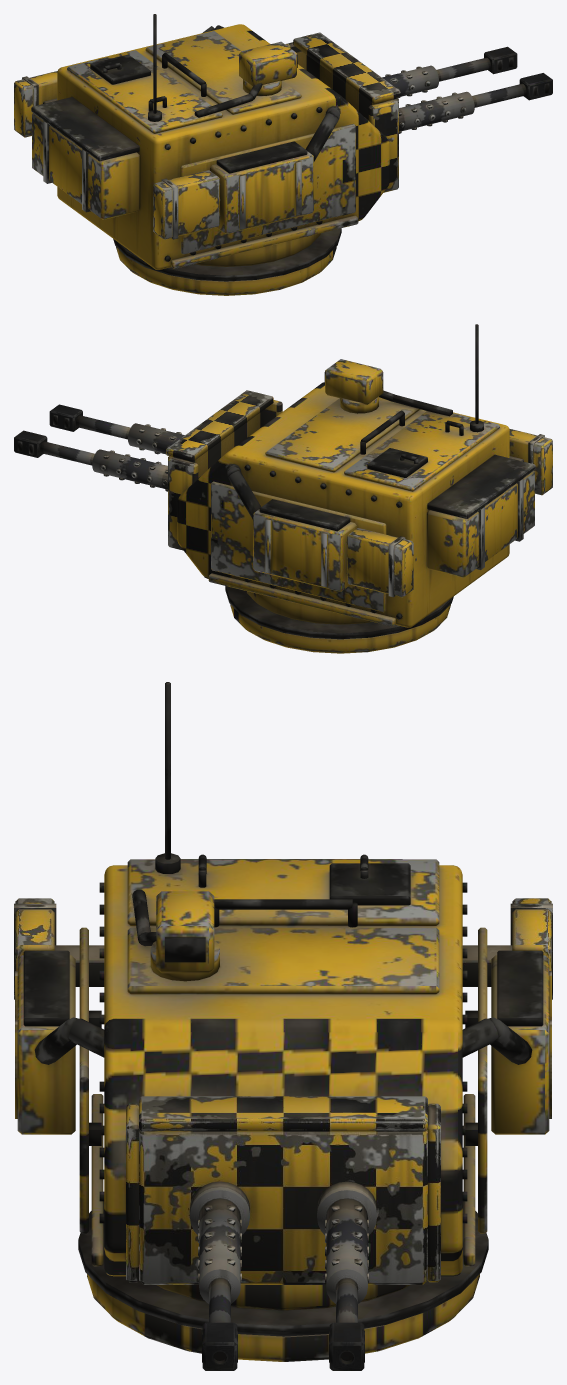
File: turret_grach_t3_chequer.glb
The picture shows the model from 3 angles, top to bottom: view 1: azimuth 30°, elevation 25°; view 2: azimuth 150°, elevation 25°; view 3: azimuth 270°, elevation 25°; orthographic projection. The views are drawn at different scales.
Parts seen in each view (by area): view 1: turret_light_t3, guns, pods; view 2: turret_light_t3, guns, pods; view 3: turret_light_t3, guns, pods.
Part boxes in pixels (x1=…): turret_light_t3: x1=31, y1=14, x2=389, y2=295; guns: x1=285, y1=32, x2=552, y2=192; pods: x1=14, y1=71, x2=220, y2=239; turret_light_t3: x1=177, y1=324, x2=535, y2=653; guns: x1=14, y1=390, x2=282, y2=550; pods: x1=346, y1=428, x2=552, y2=597; turret_light_t3: x1=15, y1=682, x2=551, y2=1361; guns: x1=126, y1=1096, x2=440, y2=1370; pods: x1=14, y1=898, x2=552, y2=999.
Bounding box in the file's own units: 1.86 × 1.09 × 1.05.
Materials: 3 (3 with a texture image).
